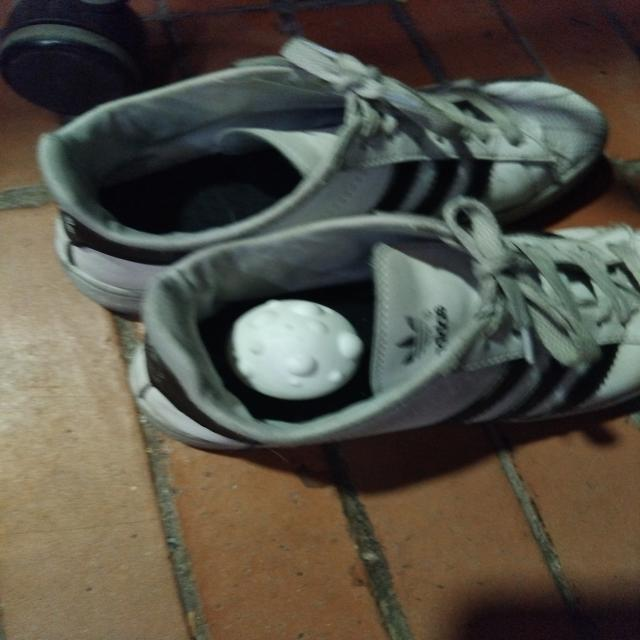Hongo: (224, 294, 368, 399)
